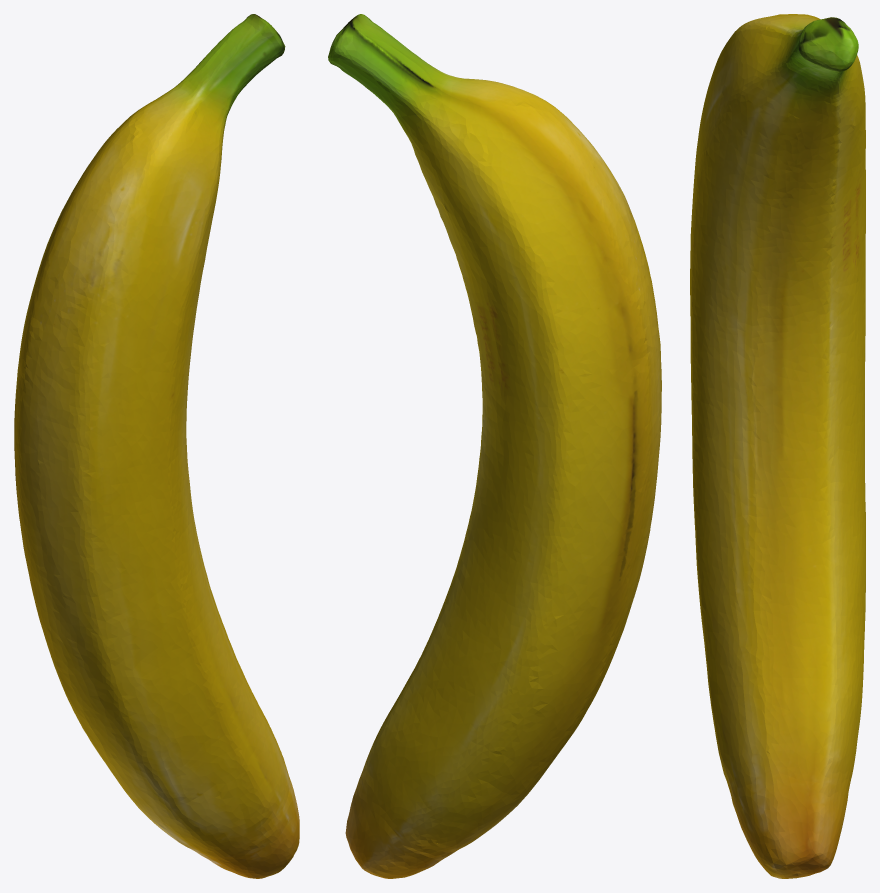
Rendered from banana.glb.
3 views of the same model, side by side, from view 1: azimuth 30°, elevation 25°; view 2: azimuth 150°, elevation 25°; view 3: azimuth 270°, elevation 25° (orthographic). The views are drawn at different scales.
Visible parts, largest first — view 1: textured.obj; view 2: textured.obj; view 3: textured.obj.
Part boxes in pixels (x1,y1,x2,y2): textured.obj: (14,14,299,878); textured.obj: (328,14,661,878); textured.obj: (690,14,865,878).
Bounding box in the file's own units: 0.0692 × 0.1976 × 0.0363.
1 material, 1 textured.
